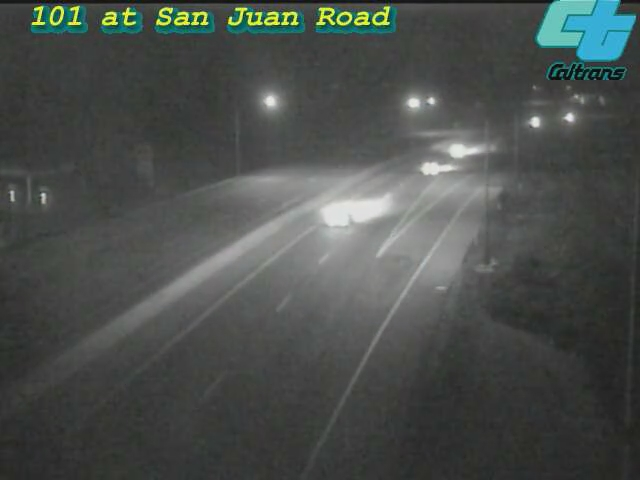vehicle: (390, 130, 470, 210), (300, 179, 380, 259), (507, 97, 557, 147), (545, 93, 595, 143), (432, 126, 482, 176)
